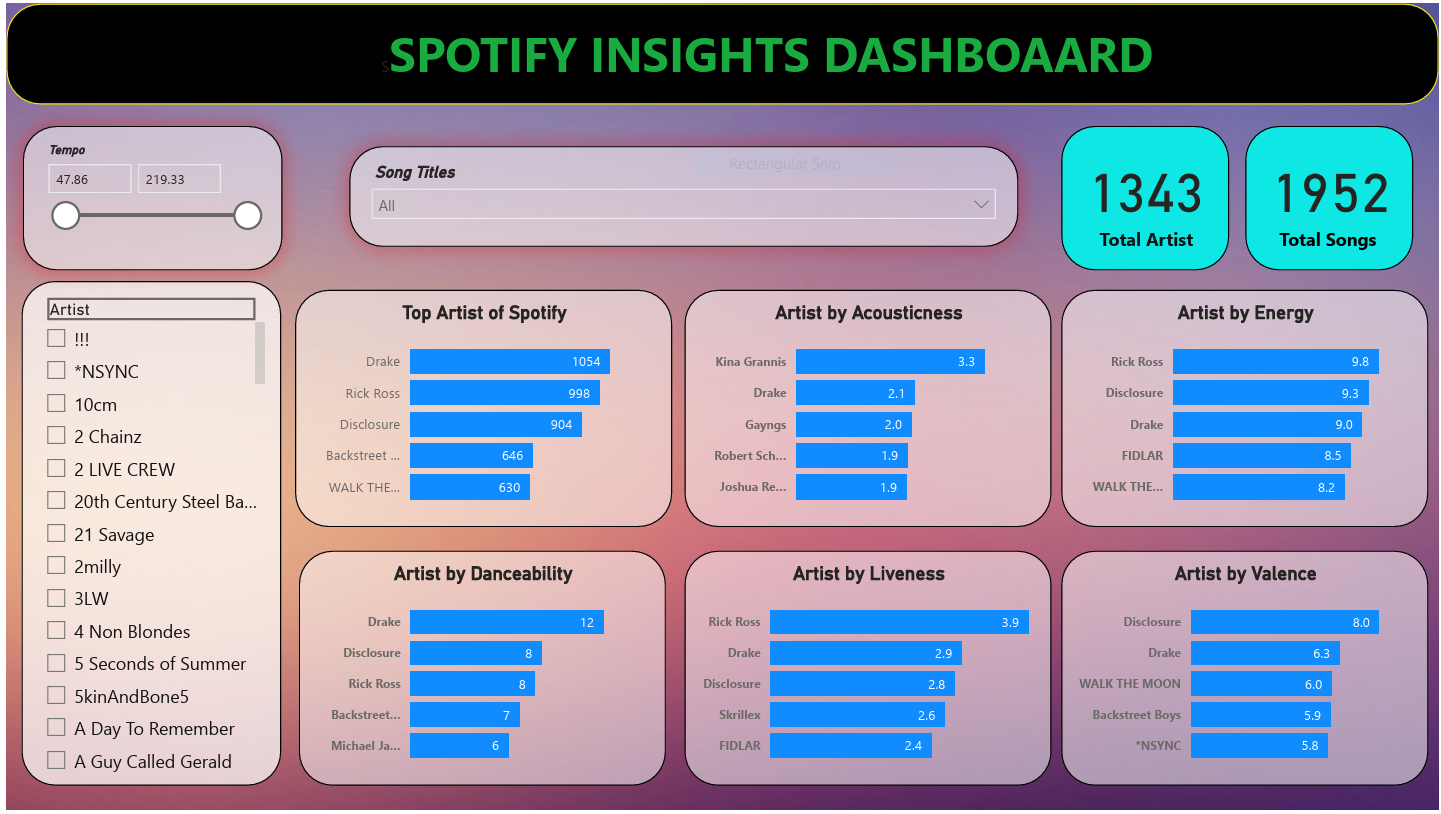

This screenshot's page, from the dashboard's own definition file:
{"tool":"powerbi","page":{"name":"Page 1","canvas":[1280,720],"ordinal":0},"visuals":[{"type":"clusteredBarChart","title":"Artist by Energy","fields":{"Category":["Spotify Dataset.Artist"],"Y":["Spotify Dataset.Energy"]},"box":[943.3,255.6,327.8,212.2],"z":0},{"type":"clusteredBarChart","title":"Top Artist of Spotify","fields":{"Category":["Spotify Dataset.Artist"],"Y":["Spotify Dataset.Duration_hr"]},"box":[257.8,255.6,336.7,212.2],"z":1000},{"type":"clusteredBarChart","title":"Artist by Danceability ","fields":{"Category":["Spotify Dataset.Artist"],"Y":["Spotify Dataset.Danceability"]},"box":[261.1,488.9,327.8,210],"z":2000},{"type":"clusteredBarChart","title":"  Artist by Acousticness","fields":{"Category":["Spotify Dataset.Artist"],"Y":["Spotify Dataset.Acousticness"]},"box":[605.6,255.6,327.8,212.2],"z":3000},{"type":"barChart","title":" Artist by Liveness ","fields":{"Category":["Spotify Dataset.Artist"],"Y":["Spotify Dataset.Liveness"]},"box":[605.6,488.9,327.8,210],"z":4000},{"type":"clusteredBarChart","title":"Artist by Valence","fields":{"Category":["Spotify Dataset.Artist"],"Y":["Spotify Dataset.Valence"]},"box":[943.3,488.9,327.8,210],"z":5000},{"type":"slicer","fields":{"Values":["Spotify Dataset.Artist"]},"box":[13.3,247.8,232.2,451.1],"z":6000},{"type":"card","fields":{"Values":["Spotify Dataset.Artist"]},"box":[943.3,108.9,150,128.9],"z":7000},{"type":"card","fields":{"Values":["Spotify Dataset.Song_title"]},"box":[1107.8,108.9,150,128.9],"z":8000},{"type":"textbox","box":[0,0,1280,90],"z":9000},{"type":"slicer","fields":{"Values":["Spotify Dataset.Tempo"]},"box":[14.4,108.9,232.2,128.9],"z":10000},{"type":"slicer","fields":{"Values":["Spotify Dataset.Song_title"]},"box":[306.7,127.8,597.8,90],"z":11000}]}

Visuals, with their boxes in screenshot pixels (x1, y1, x2, y2), scaled from the page's 1280x720 canvas onto the 1441x814 screenshot:
"Artist by Energy" clusteredBarChart: (x1=1062, y1=289, x2=1431, y2=529)
"Top Artist of Spotify" clusteredBarChart: (x1=290, y1=289, x2=669, y2=529)
"Artist by Danceability " clusteredBarChart: (x1=294, y1=553, x2=663, y2=790)
"  Artist by Acousticness" clusteredBarChart: (x1=682, y1=289, x2=1051, y2=529)
" Artist by Liveness " barChart: (x1=682, y1=553, x2=1051, y2=790)
"Artist by Valence" clusteredBarChart: (x1=1062, y1=553, x2=1431, y2=790)
slicer - Spotify Dataset.Artist: (x1=15, y1=280, x2=276, y2=790)
card - Spotify Dataset.Artist: (x1=1062, y1=123, x2=1231, y2=269)
card - Spotify Dataset.Song_title: (x1=1247, y1=123, x2=1416, y2=269)
textbox: (x1=0, y1=0, x2=1440, y2=102)
slicer - Spotify Dataset.Tempo: (x1=16, y1=123, x2=278, y2=269)
slicer - Spotify Dataset.Song_title: (x1=345, y1=144, x2=1018, y2=246)
